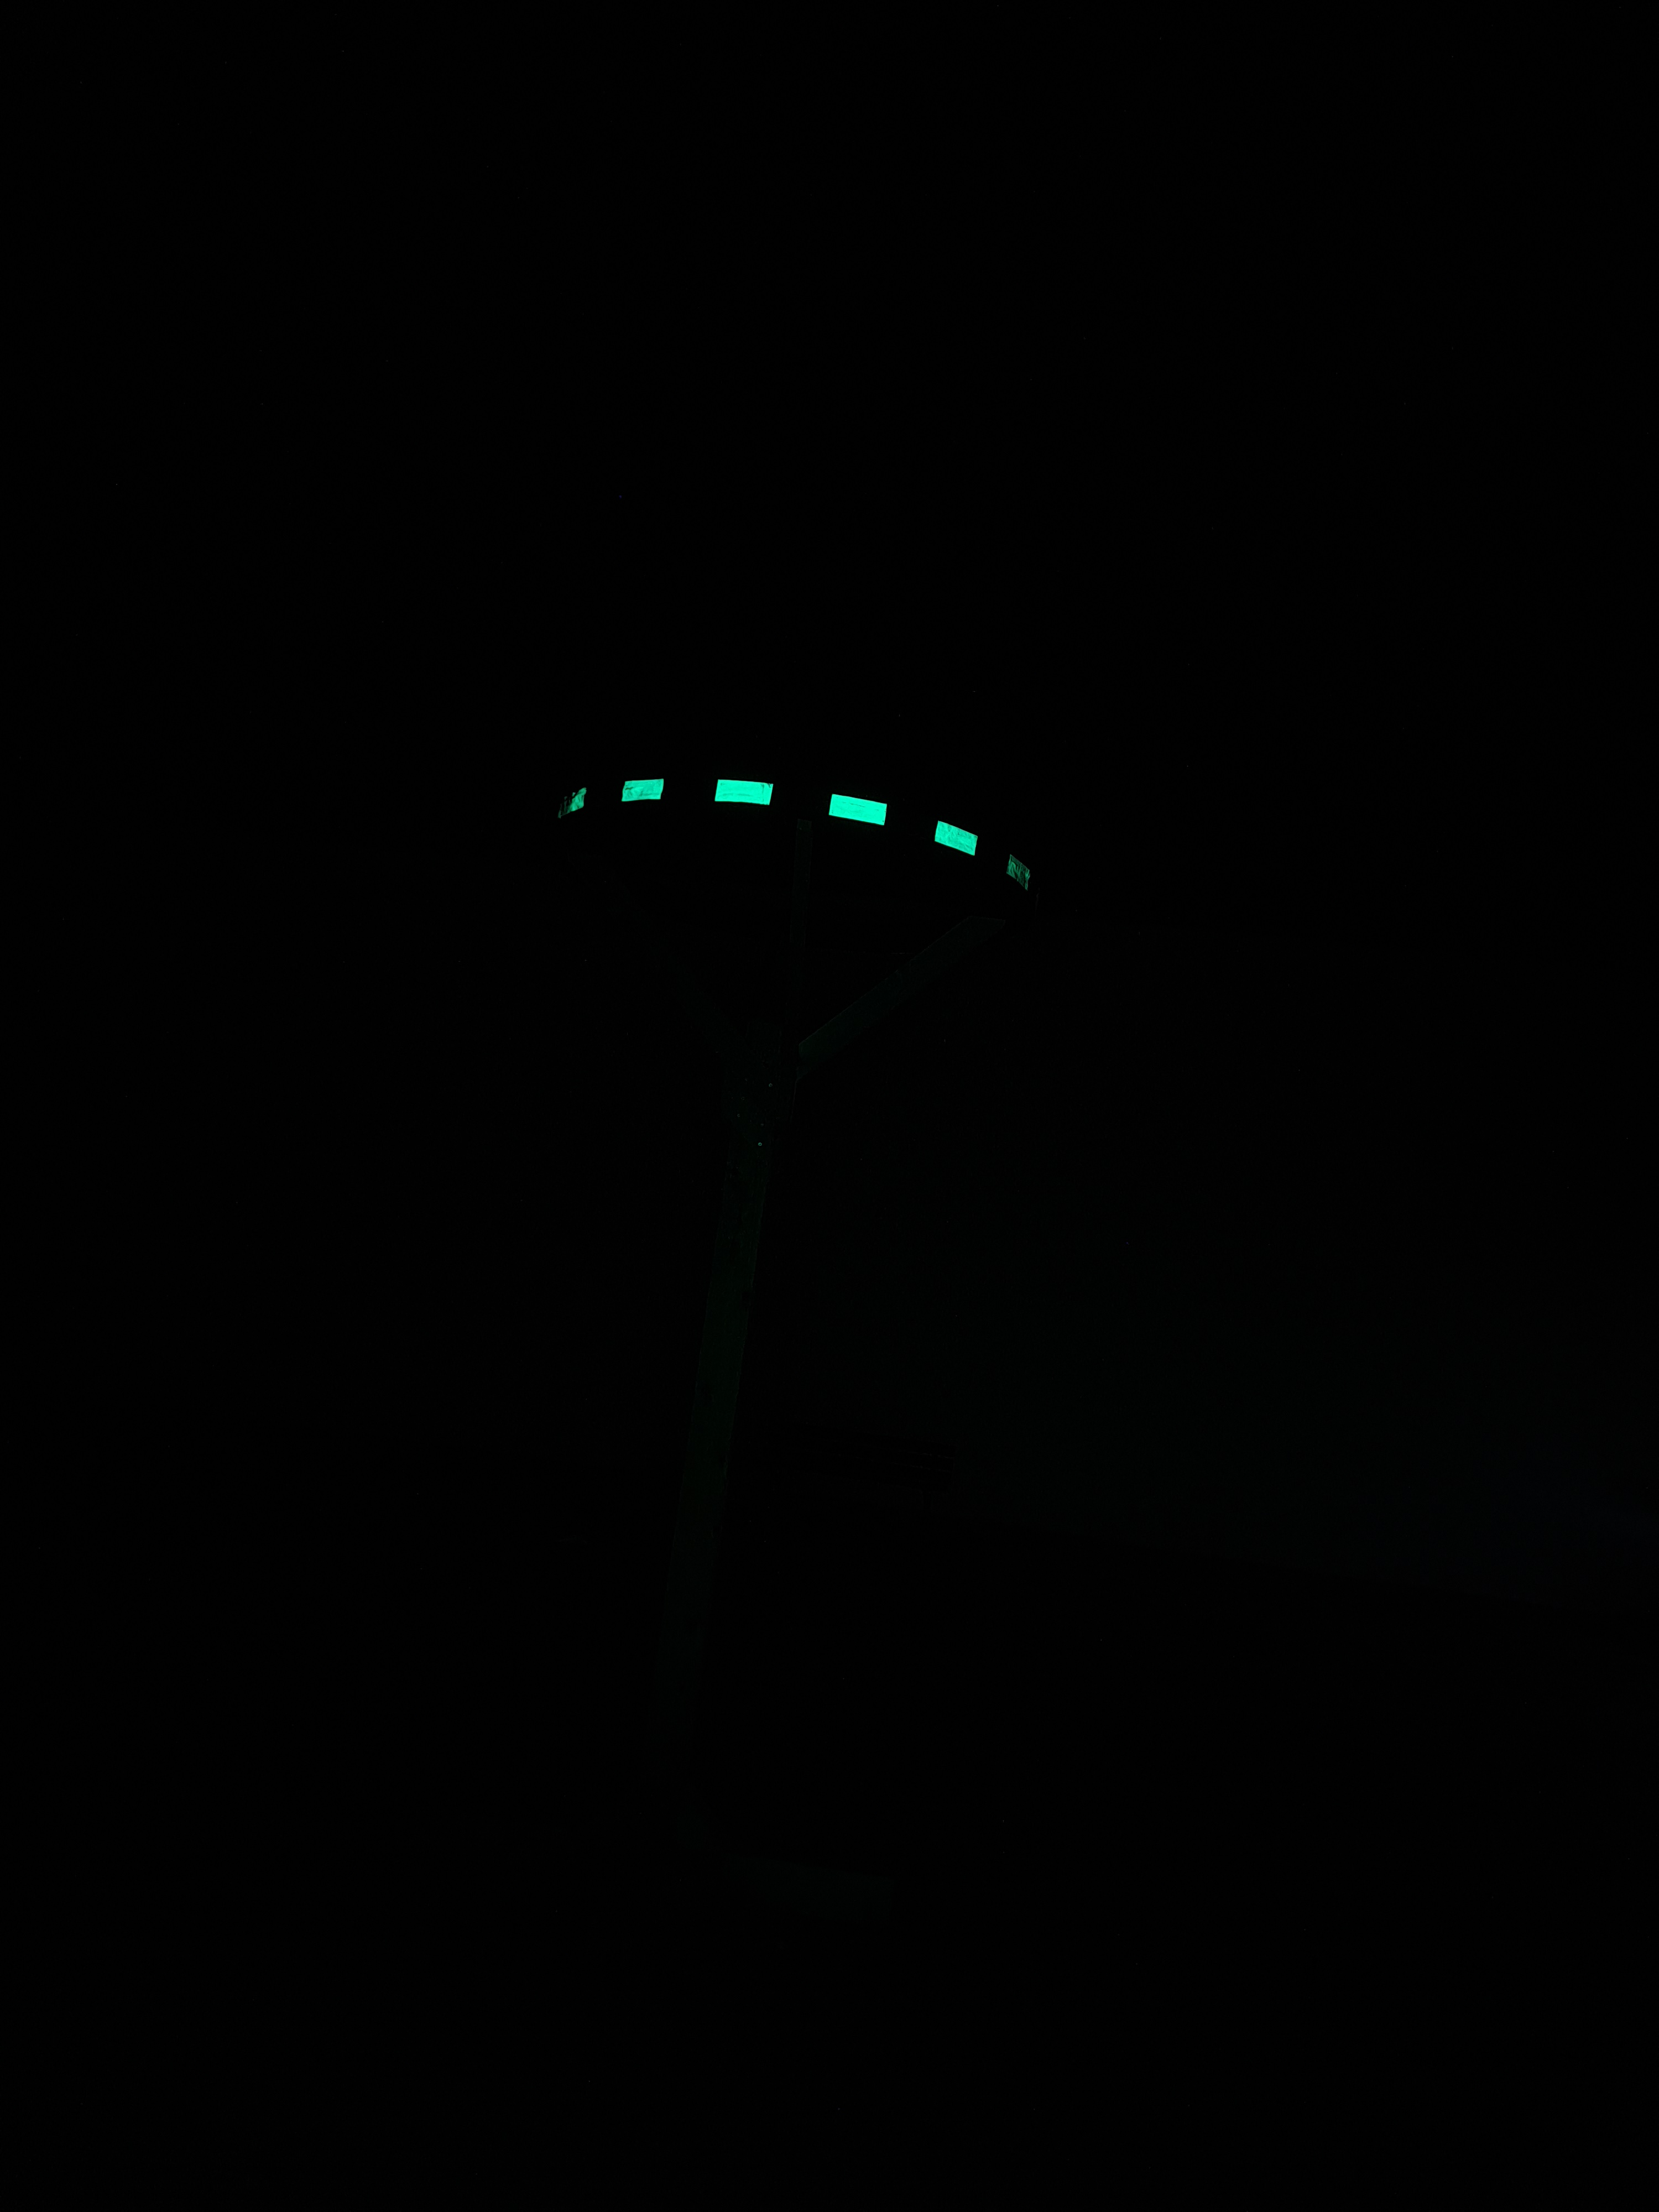hoop: (552, 761, 1033, 906)
